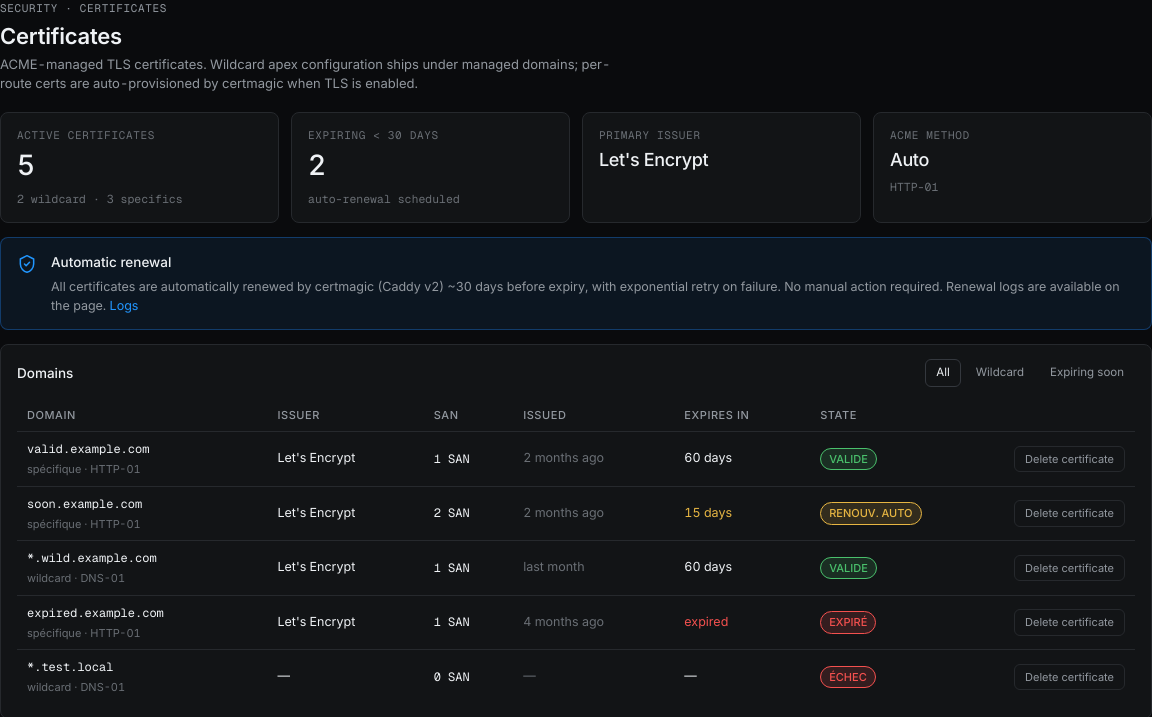
Test: /certs — Domaines tabs (T.4) › Wildcard tab filters to source=wildcard rows only
Expected: the table with test id "certs-table" is shown, [17, 399, 1135, 704]
Click the tab with test id "tab-wildcard" at (1000, 373), box [965, 359, 1035, 387]
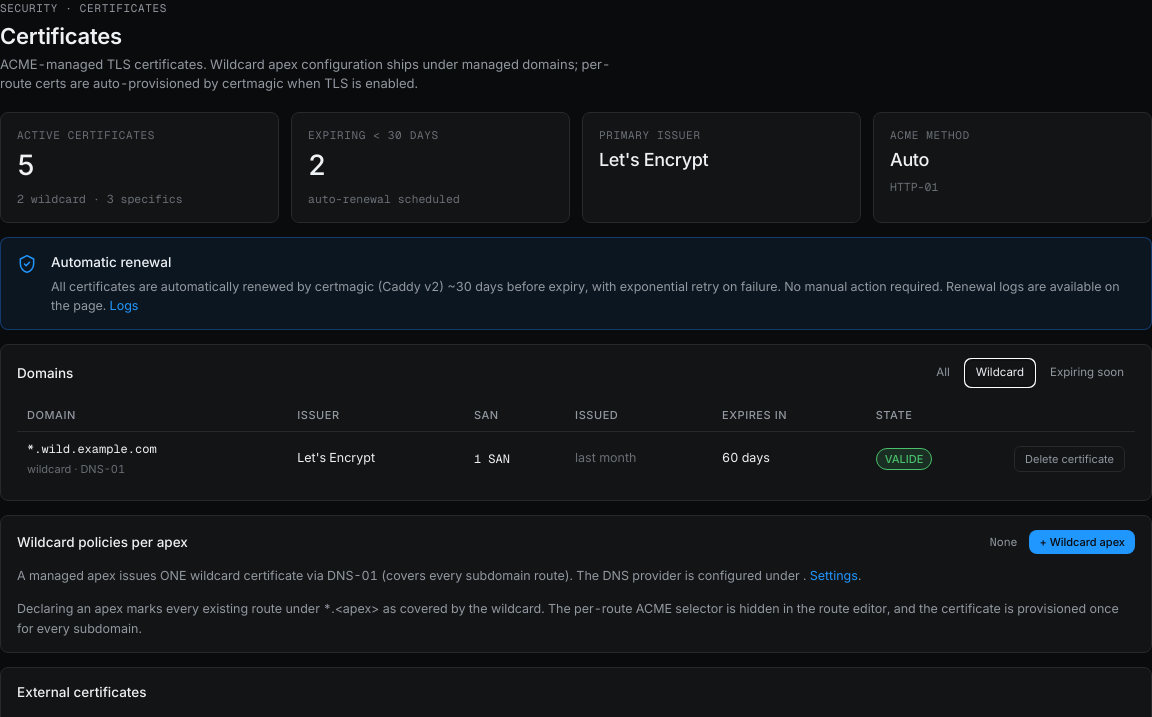
Expected: the number of rows with test id "cert-row" is 1, [17, 432, 1135, 486]
